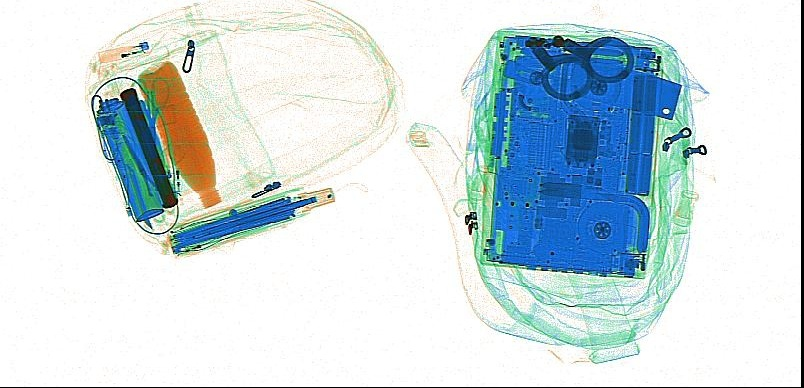handcuffs: (525, 34, 634, 99)
knife: (502, 54, 681, 119), (124, 162, 152, 228)
lighter: (161, 138, 180, 199), (98, 41, 149, 63)
pressure: (87, 76, 163, 220)
scissors: (119, 131, 175, 221), (128, 75, 170, 170)
